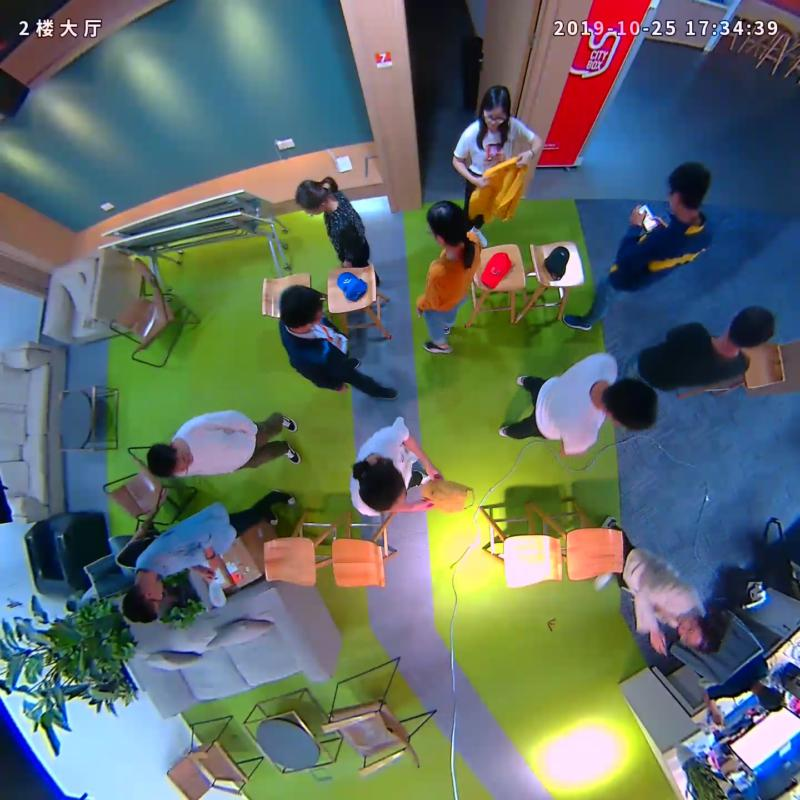head: (350, 455, 412, 519), (598, 374, 661, 435), (662, 158, 718, 224), (719, 300, 781, 352), (271, 281, 330, 335), (418, 197, 474, 253), (469, 81, 518, 130), (140, 437, 189, 485), (293, 173, 342, 217)
